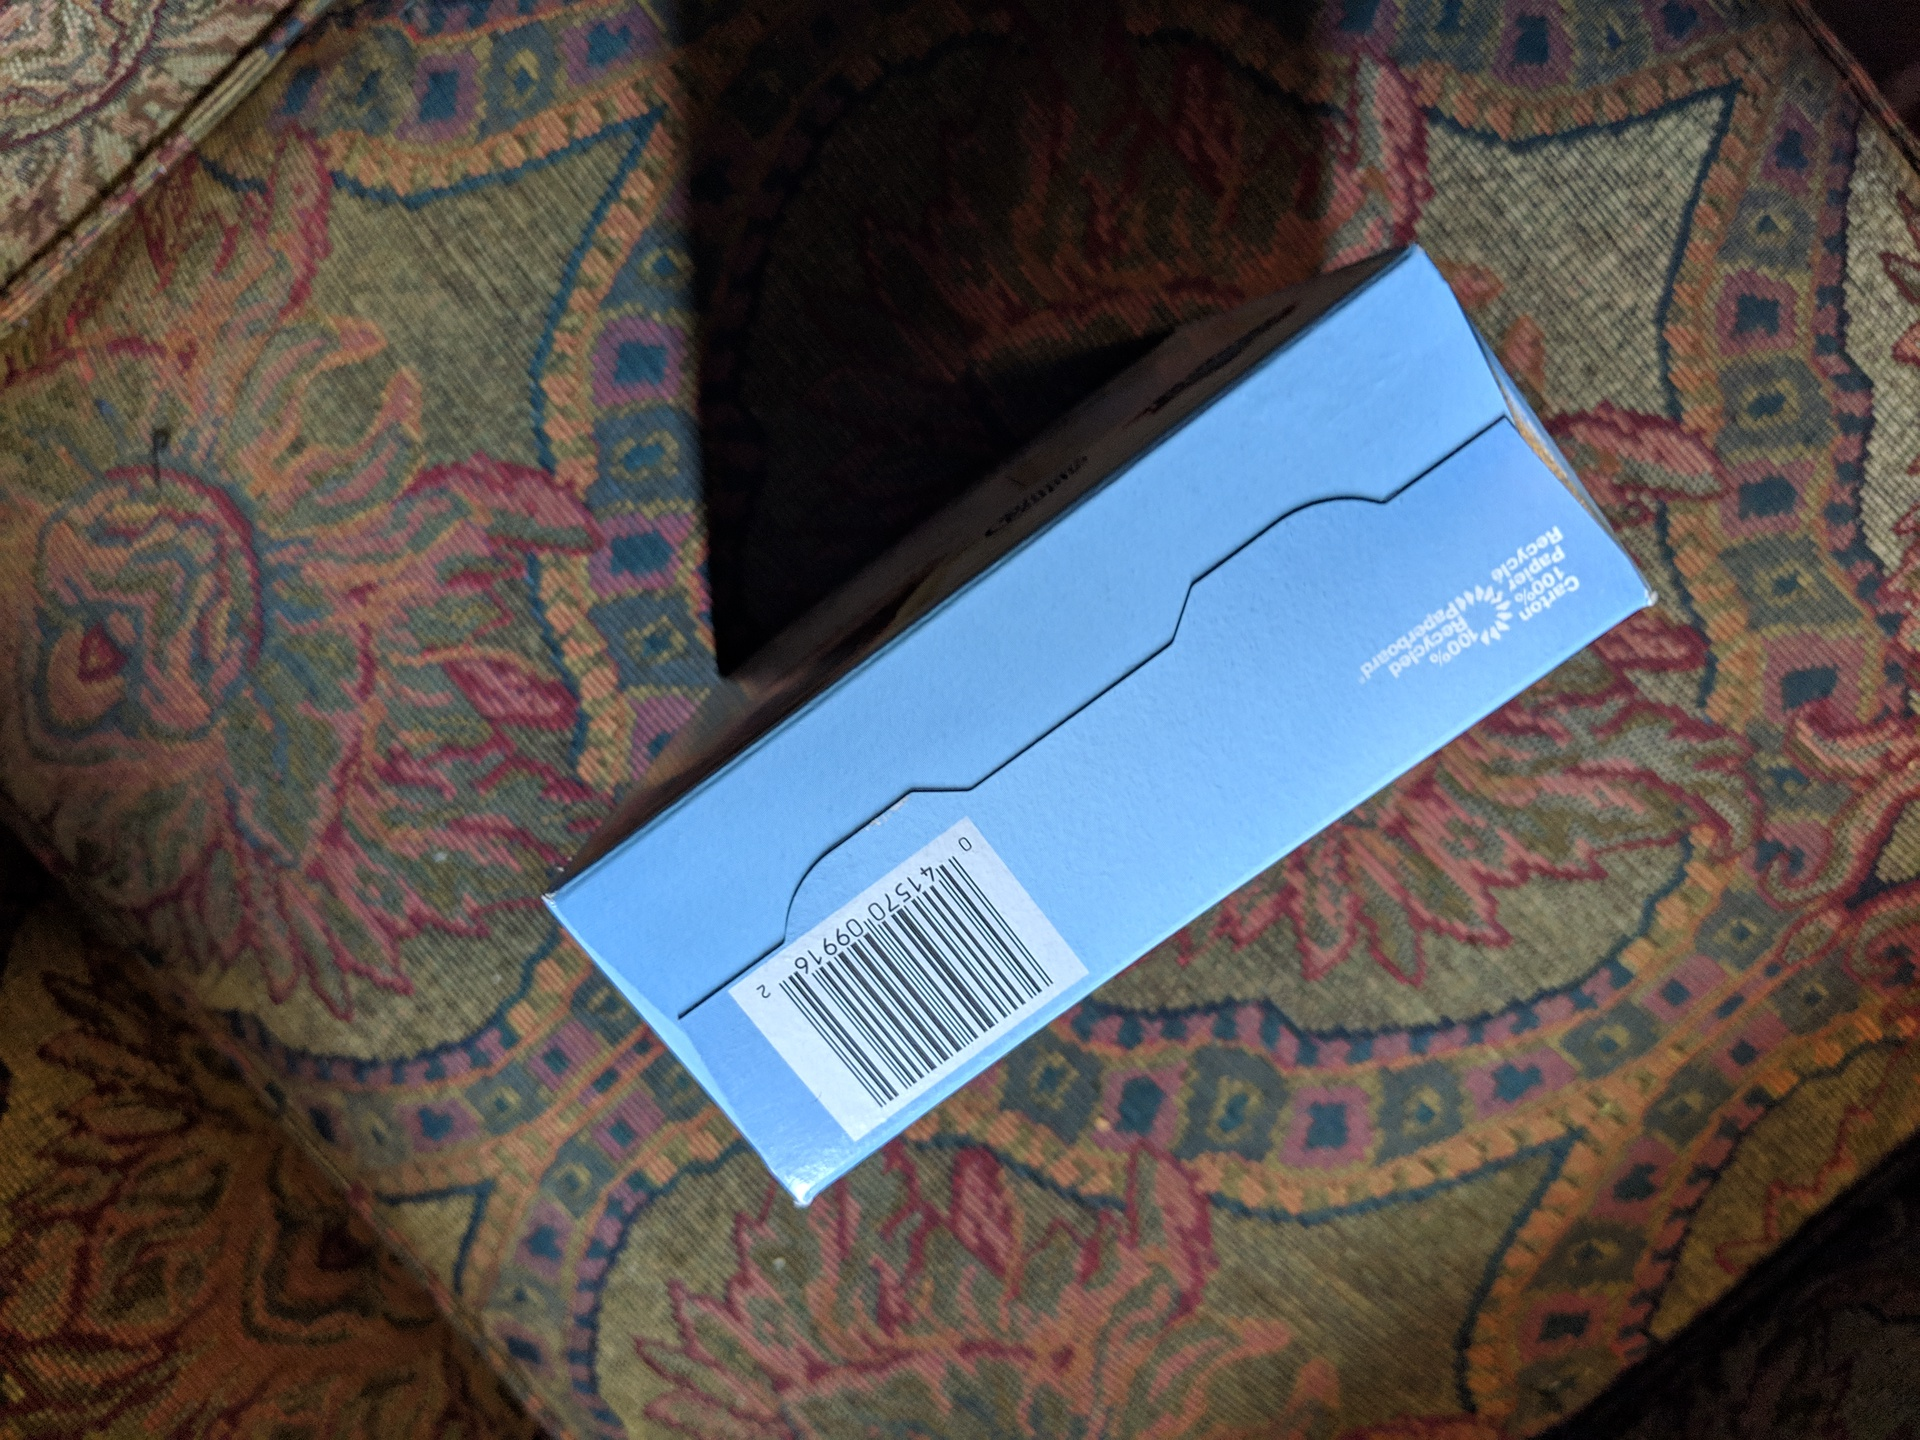blue_diamond_nut_thins_almond_seasalt: (643, 324, 1584, 1124)
